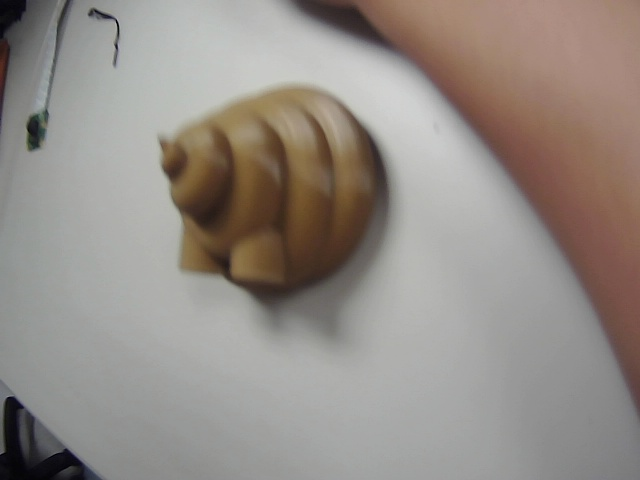shit: (143, 79, 398, 322)
